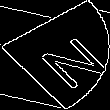N_NW: (12, 23, 98, 87)
